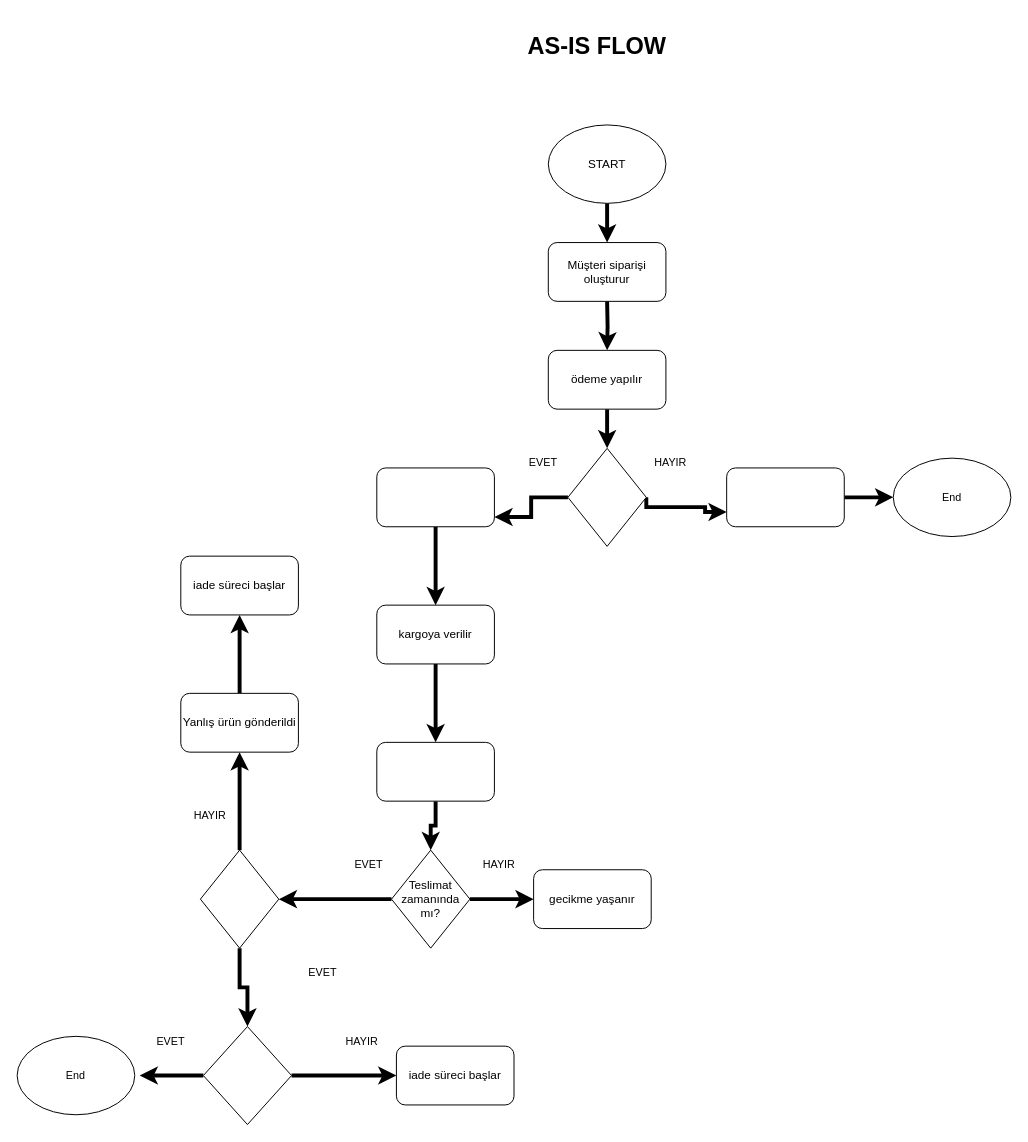
Some shapes in this 1028 by 1142 pixel diagram are drawn without their labels. The shapes that lost their labels are listed below. From the top down, each one's centre as x and y in pixels, then its label:
At [435,497]: "sipariş hazırlanır".
At [606,496]: "ödeme başarılı mı?".
At [785,497]: "sipariş iptal edilir".
At [435,771]: "teslimat yapılır".
At [239,898]: "Ürün doğru mu?".
At [247,1075]: "Müşteri memnun mu?".
